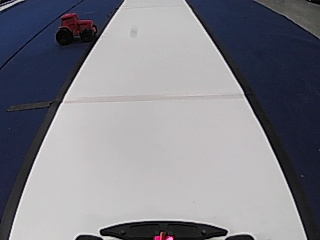tractor: (54, 10, 97, 44)
